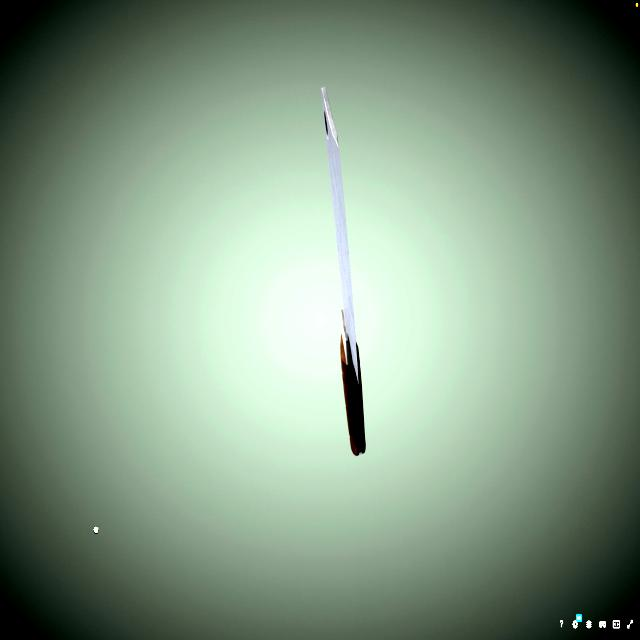cleaver: (319, 82, 368, 455)
